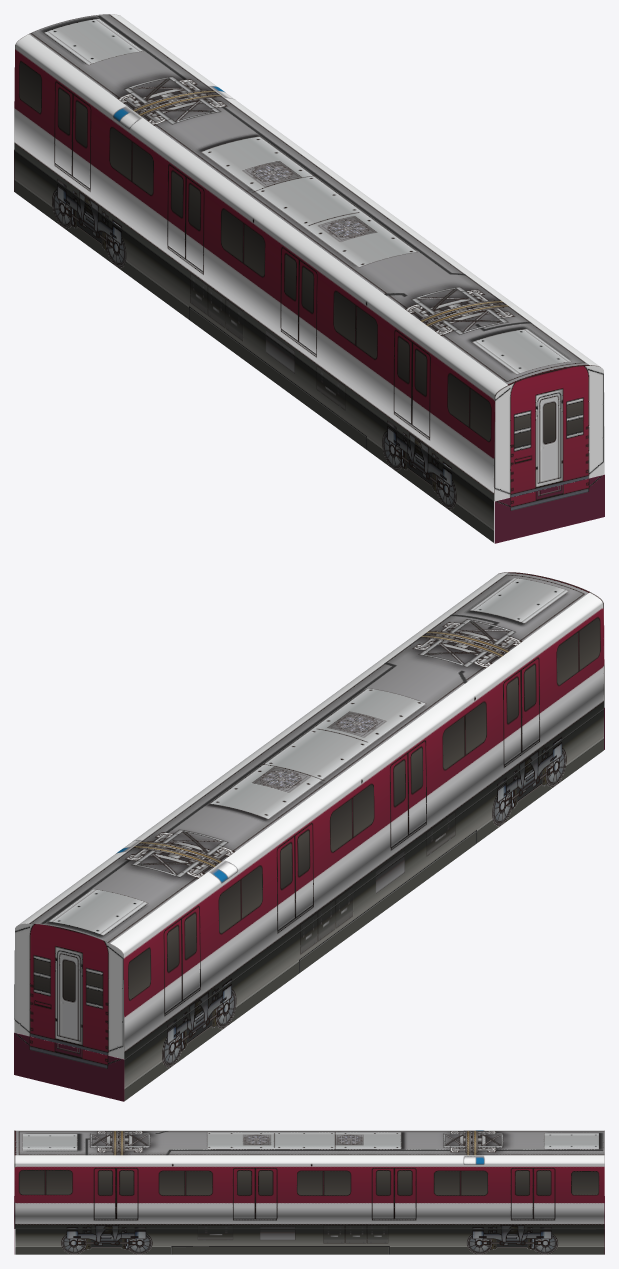
The model's file is car3.glb.
3 views of the same model, one above another, from view 1: azimuth 30°, elevation 25°; view 2: azimuth 150°, elevation 25°; view 3: azimuth 270°, elevation 25° (orthographic). The views are drawn at different scales.
Parts seen in each view (by area): view 1: kintetsu-2610-car3; view 2: kintetsu-2610-car3; view 3: kintetsu-2610-car3.
Boxes of the visible parts, box(x1,y1,x2,y2) form: kintetsu-2610-car3: box(14, 14, 604, 543); kintetsu-2610-car3: box(14, 572, 604, 1101); kintetsu-2610-car3: box(14, 1130, 604, 1254).
Size of the model in its own units: 2.74 by 3.77 by 20.75.
8 materials, 7 textured.
